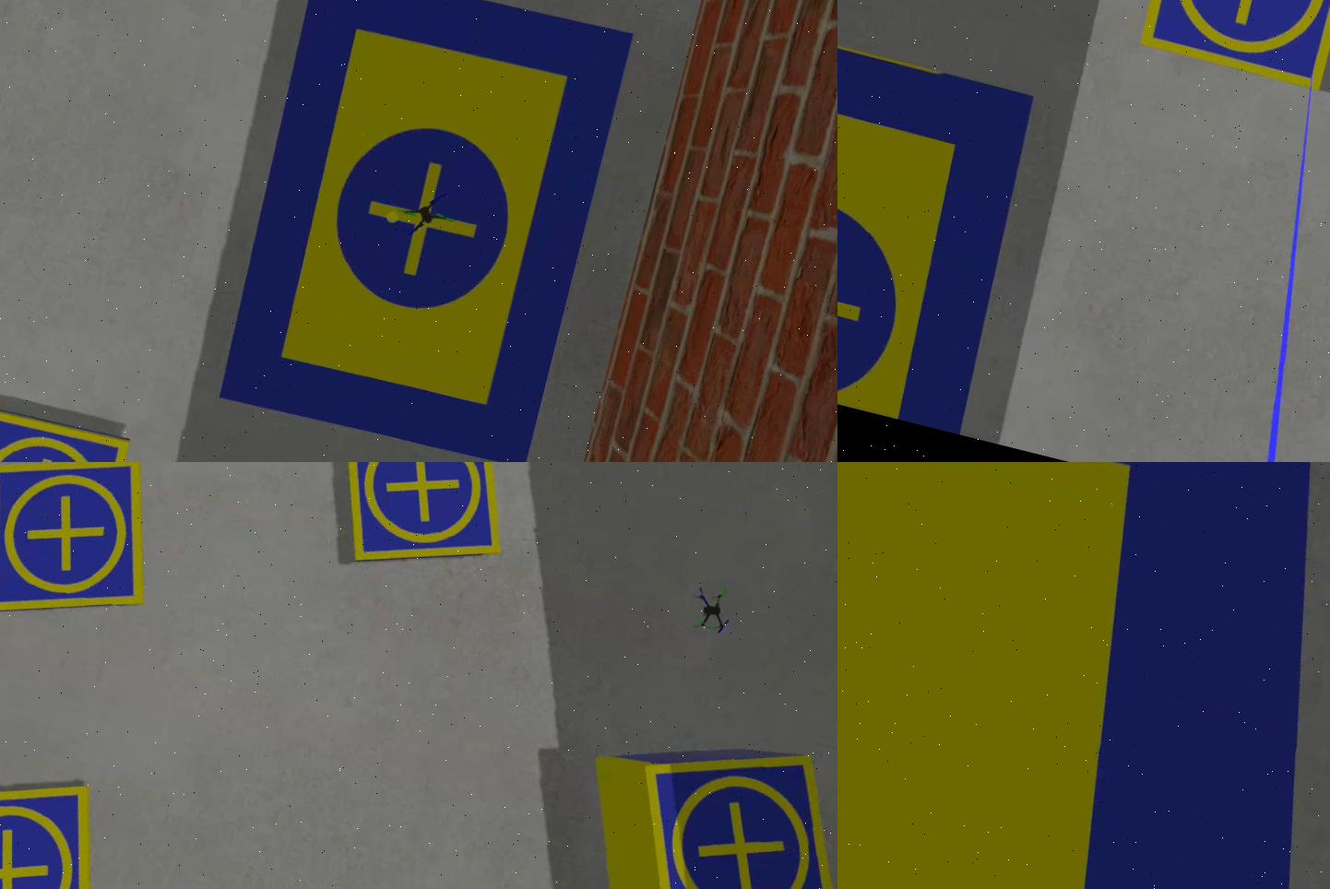large_base: (838, 463, 1330, 889), (208, 1, 637, 463), (838, 1, 1040, 445)
small_base: (600, 719, 838, 889), (1, 463, 176, 649), (317, 463, 531, 593), (1132, 1, 1330, 98), (1, 750, 129, 889), (1, 403, 133, 463)
